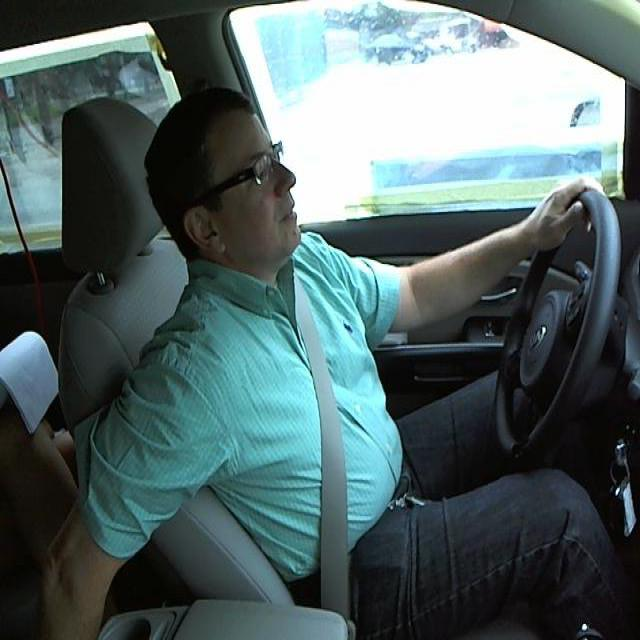seatbelt: (281, 287, 371, 621)
